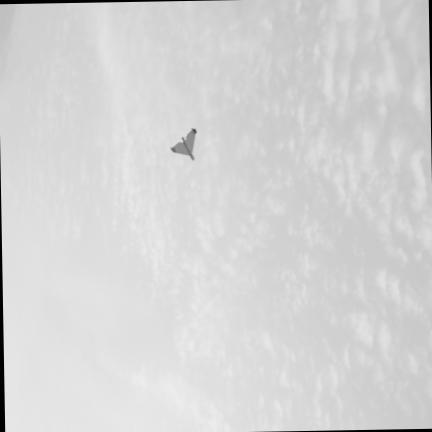Shahed: (170, 129, 195, 159)
